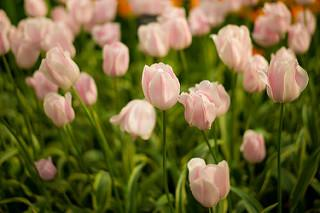tulip: (257, 46, 309, 104), (181, 81, 229, 129), (186, 158, 232, 206), (109, 98, 156, 141), (212, 23, 252, 73), (141, 62, 181, 111), (40, 44, 79, 89), (42, 92, 76, 127), (138, 22, 171, 58), (102, 42, 129, 77)
